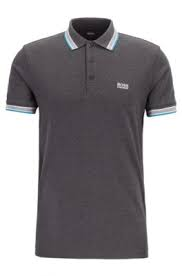S_polo shirt: (13, 23, 176, 262)
